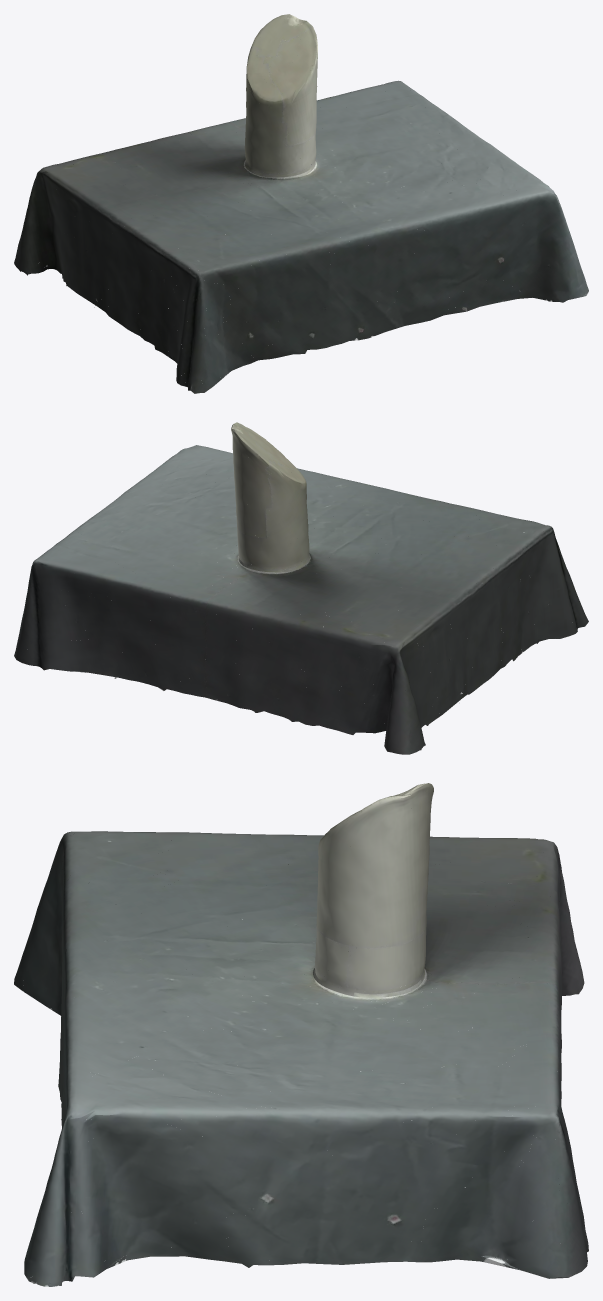
Rendered from 静物_几何体_斜切圆柱体01_opt.glb.
3 views of the same model, one above another, from view 1: azimuth 30°, elevation 25°; view 2: azimuth 150°, elevation 25°; view 3: azimuth 270°, elevation 25° (orthographic). The views are drawn at different scales.
Visible parts, largest first — view 1: defaultMat, defaultMat_1; view 2: defaultMat, defaultMat_1; view 3: defaultMat, defaultMat_1.
Part boxes in pixels (x1,y1,x2,y2): defaultMat: (14,14,588,393); defaultMat_1: (27,16,586,388); defaultMat: (14,422,588,754); defaultMat_1: (23,424,582,733); defaultMat: (14,783,588,1286); defaultMat_1: (16,791,585,1278).
Size of the model in its own units: 0.5481 by 0.3 by 0.4273.
Materials: 1 (1 with a texture image).
